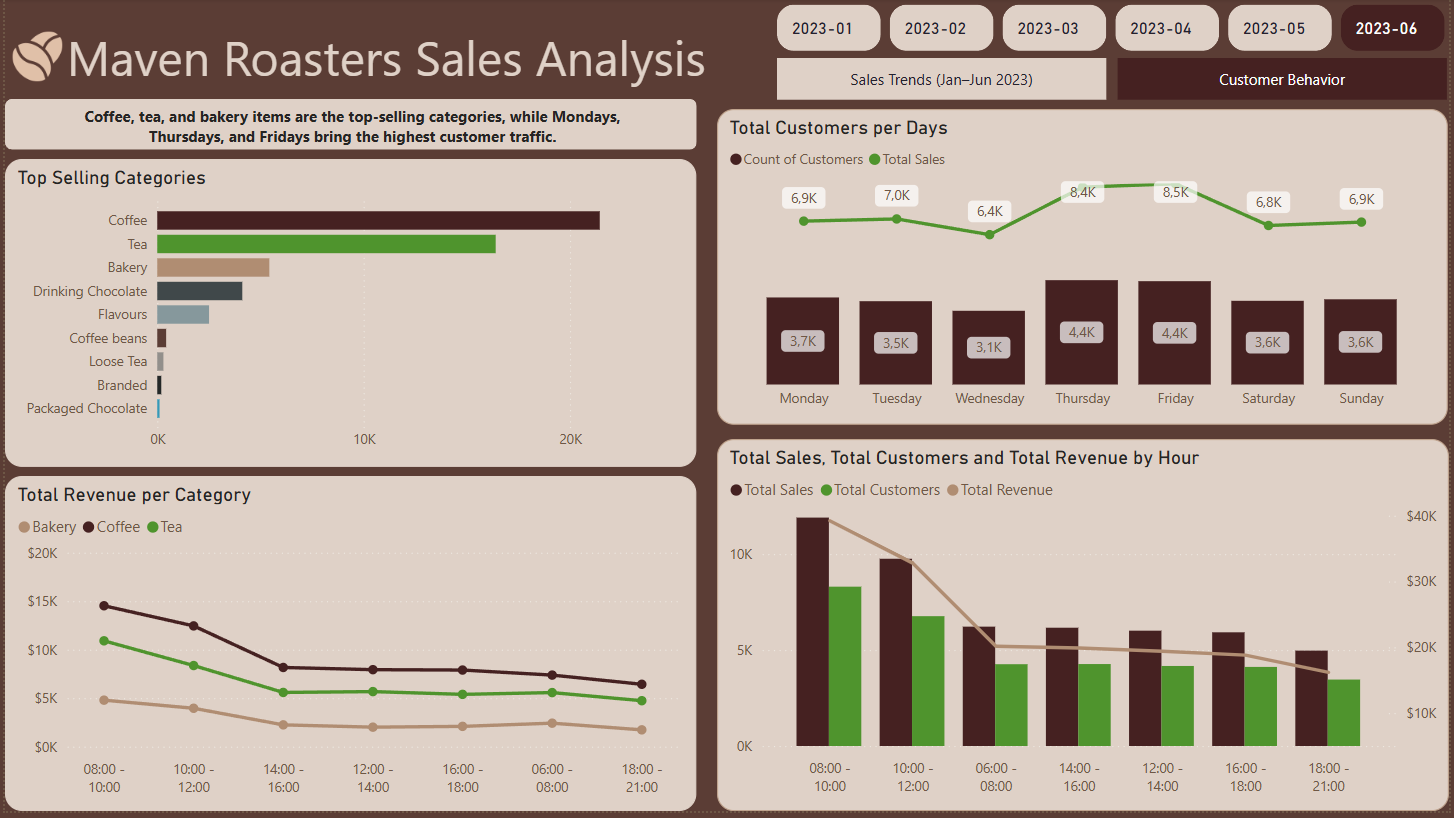

This screenshot's page, from the dashboard's own definition file:
{"tool":"powerbi","page":{"name":"Customer Behavior","canvas":[1280,720],"ordinal":1},"visuals":[{"type":"shape","box":[0,88.7,613.4,44.8],"z":0,"group":"g1"},{"type":"barChart","title":"Top Selling Categories","fields":{"Category":["Coffee Shop Sales_pivot.product_category"],"Y":["Sum(Coffee Shop Sales_pivot.transaction_qty)"],"Series":["Coffee Shop Sales_pivot.product_category"]},"box":[0,141.5,613.4,273.1],"z":0},{"type":"lineStackedColumnComboChart","title":"Total Customers per Days","fields":{"Category":["Days.Days"],"Y":["Count(Coffee Shop Sales_pivot.transaction_time)"],"Y2":["Coffee Shop Sales_pivot.Total Sales"]},"box":[631.3,97.6,648.4,280.3],"z":1000},{"type":"lineClusteredColumnComboChart","title":"Total Sales, Total Customers and Total Revenue by Hour","fields":{"Category":["Coffee Shop Sales_pivot.TimeBracket"],"Y2":["Sum(Coffee Shop Sales_pivot.Revenue)"],"Y":["Sum(Coffee Shop Sales_pivot.transaction_qty)","CountNonNull(Coffee Shop Sales_pivot.transaction_time)"]},"box":[631.3,390.4,649.3,329.6],"z":2000},{"type":"lineChart","title":"Total Revenue per Category","fields":{"Category":["Coffee Shop Sales_pivot.TimeBracket"],"Y":["Sum(Coffee Shop Sales_pivot.Revenue)"],"Series":["Coffee Shop Sales_pivot.product_category"]},"box":[0,422.7,613.4,297.3],"z":3000},{"type":"pageNavigator","box":[684.2,51.9,595.5,37.6],"z":4000},{"type":"textbox","box":[0,16.8,676.3,70],"z":5000},{"type":"advancedSlicerVisual","fields":{"Values":["DateTable.Month"]},"box":[684.5,0,595.5,51.4],"z":6000},{"type":"image","box":[1.8,24.2,53.7,53.7],"z":7000},{"type":"group","id":"g1","title":"Group 4","box":[0,88.7,613.4,51],"z":8000},{"type":"textbox","box":[31.7,90.5,552.5,49.3],"z":16002,"group":"g1"}]}

Visuals, with their boxes in screenshot pixels (x1, y1, x2, y2), scaled from the page's 1280x720 canvas onto the 1454x818 screenshot:
shape: bbox=[0, 101, 697, 152]
"Top Selling Categories" barChart: bbox=[0, 161, 697, 471]
"Total Customers per Days" lineStackedColumnComboChart: bbox=[717, 111, 1453, 429]
"Total Sales, Total Customers and Total Revenue by Hour" lineClusteredColumnComboChart: bbox=[717, 444, 1453, 817]
"Total Revenue per Category" lineChart: bbox=[0, 480, 697, 817]
pageNavigator: bbox=[777, 59, 1453, 102]
textbox: bbox=[0, 19, 768, 99]
advancedSlicerVisual - DateTable.Month: bbox=[778, 0, 1453, 58]
image: bbox=[2, 27, 63, 89]
"Group 4" group: bbox=[0, 101, 697, 159]
textbox: bbox=[36, 103, 664, 159]
